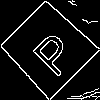P: (23, 23, 79, 79)
